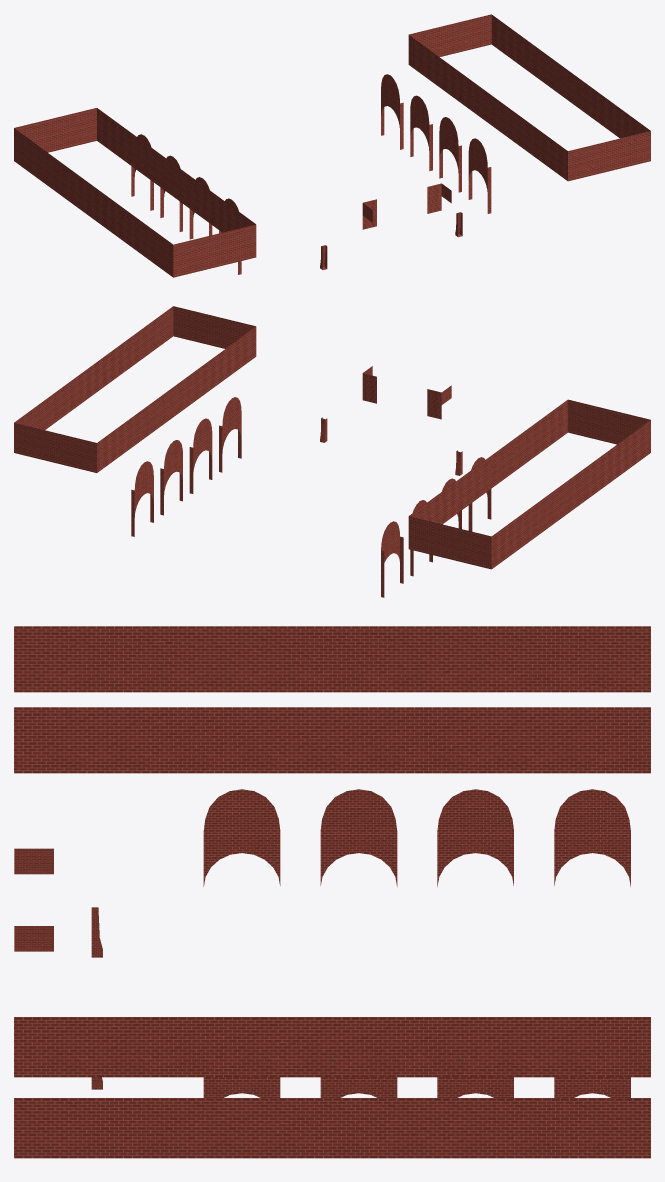
The model's file is Steam_brick2.fbx.
3 views of the same model, one above another, from view 1: azimuth 30°, elevation 25°; view 2: azimuth 150°, elevation 25°; view 3: azimuth 270°, elevation 25° (orthographic). The views are drawn at different scales.
Parts seen in each view (by area): view 1: Steam_brick2; view 2: Steam_brick2; view 3: Steam_brick2.
Part boxes in pixels (bbox=[...]): Steam_brick2: bbox=[14, 14, 650, 277]; Steam_brick2: bbox=[14, 306, 650, 597]; Steam_brick2: bbox=[14, 626, 650, 1158].
Bounding box in the file's own units: 471 × 87.14 × 272.
